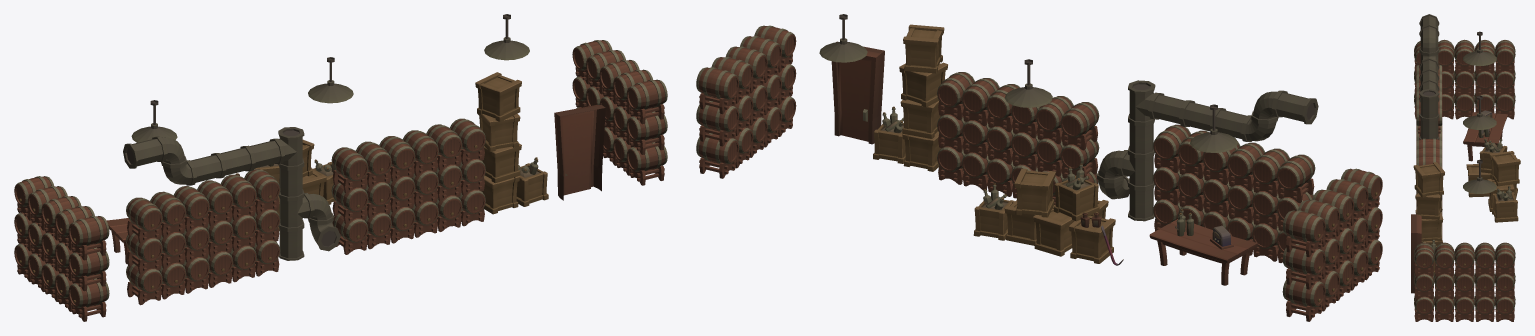
Rendered from Setdressing_Level1_Wine_and_Boxes.fbx.
3 renders of one model, left to right at view 1: azimuth 30°, elevation 25°; view 2: azimuth 150°, elevation 25°; view 3: azimuth 270°, elevation 25°, orthographic. The views are drawn at different scales.
Visible parts, largest first — view 1: Setdressing_Level1_Wine_and_Boxes; view 2: Setdressing_Level1_Wine_and_Boxes; view 3: Setdressing_Level1_Wine_and_Boxes.
Boxes of the visible parts, box(x1,y1,x2,y2) form: Setdressing_Level1_Wine_and_Boxes: box(14, 14, 667, 321); Setdressing_Level1_Wine_and_Boxes: box(696, 14, 1382, 321); Setdressing_Level1_Wine_and_Boxes: box(1411, 14, 1520, 321).
Size of the model in its own units: 2004 by 435 by 523.
